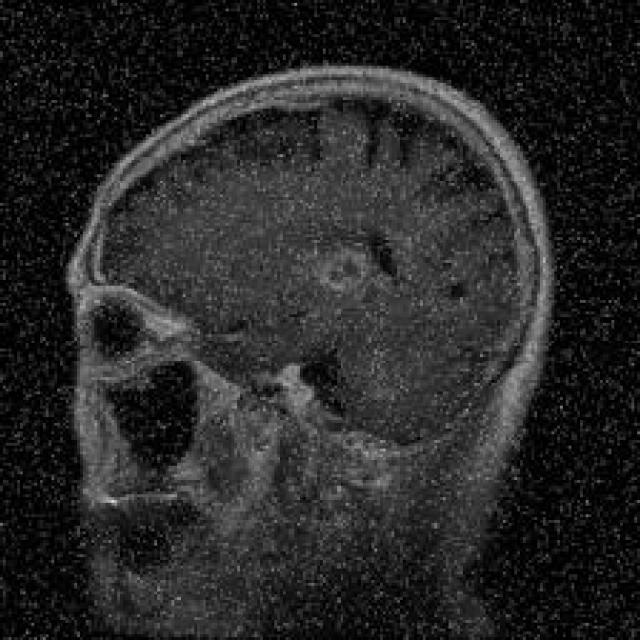glioma_tumor: (254, 206, 424, 324)
